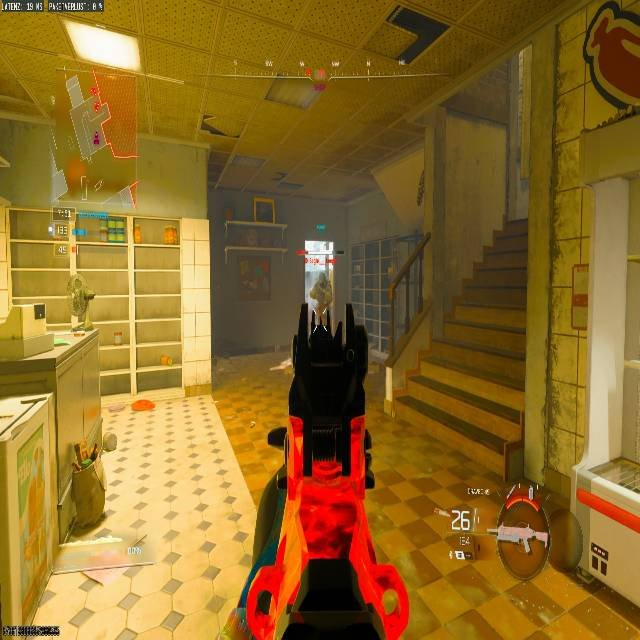player: (309, 272, 333, 331)
